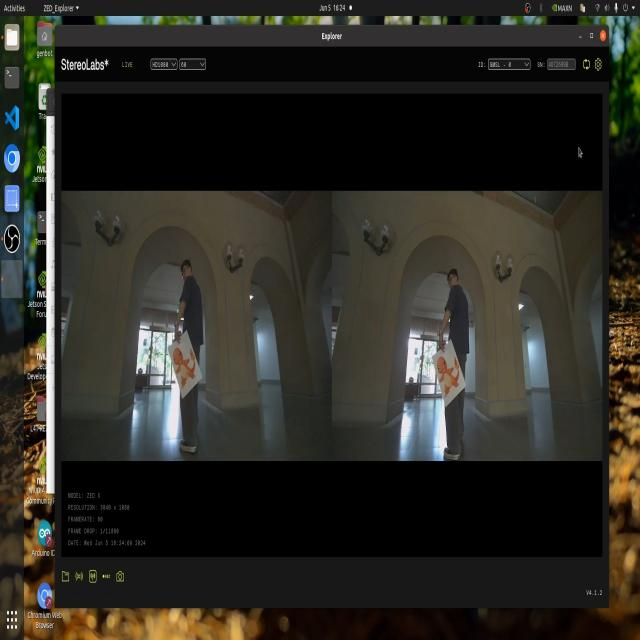red: (433, 353, 472, 404), (171, 345, 202, 392)
